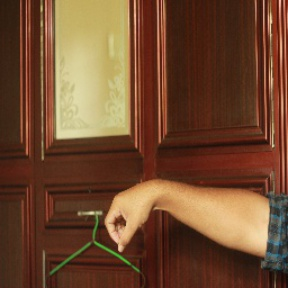O: (103, 182, 158, 253)
